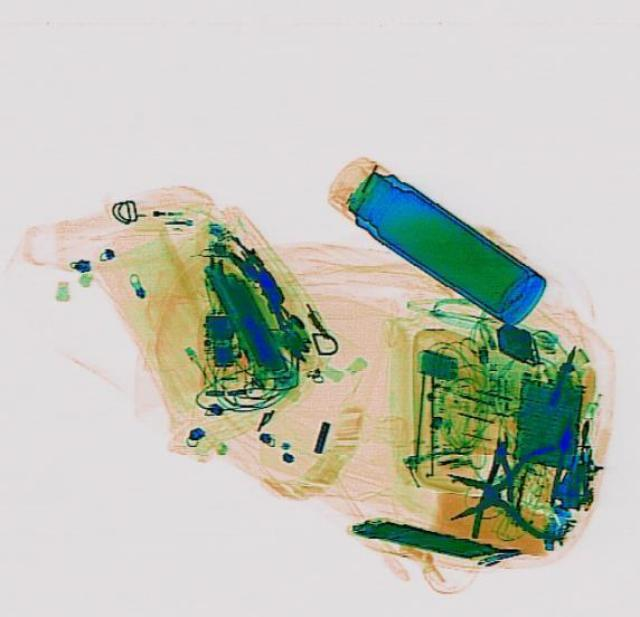Pliers: (444, 440, 568, 538), (470, 429, 518, 537)
